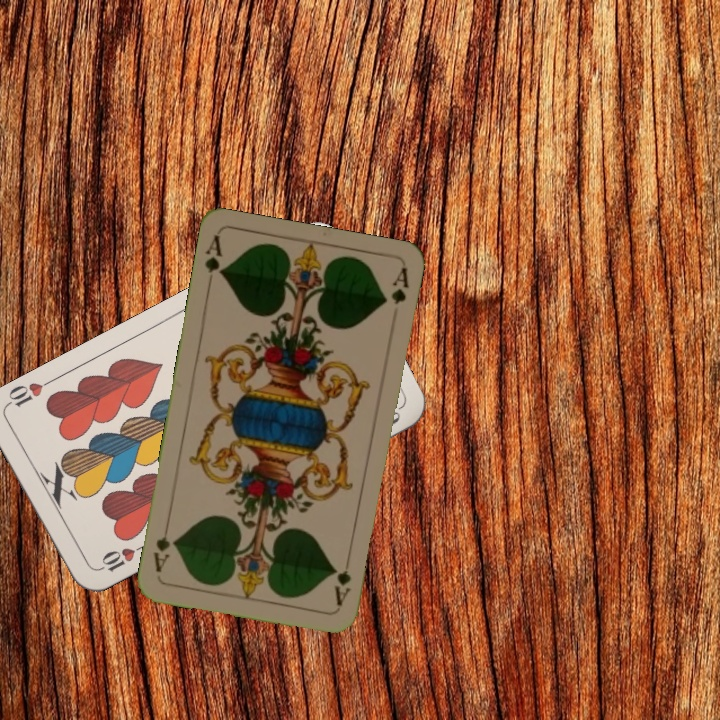GA: (201, 232, 227, 291), (330, 550, 353, 609)
H10: (92, 540, 147, 575)
